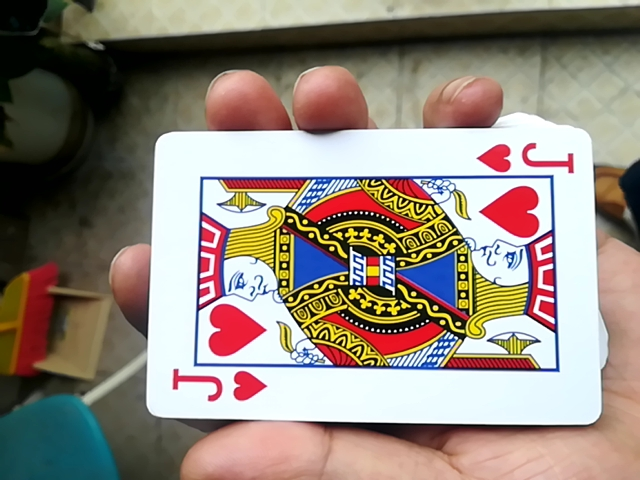hx j: (130, 120, 594, 436)
